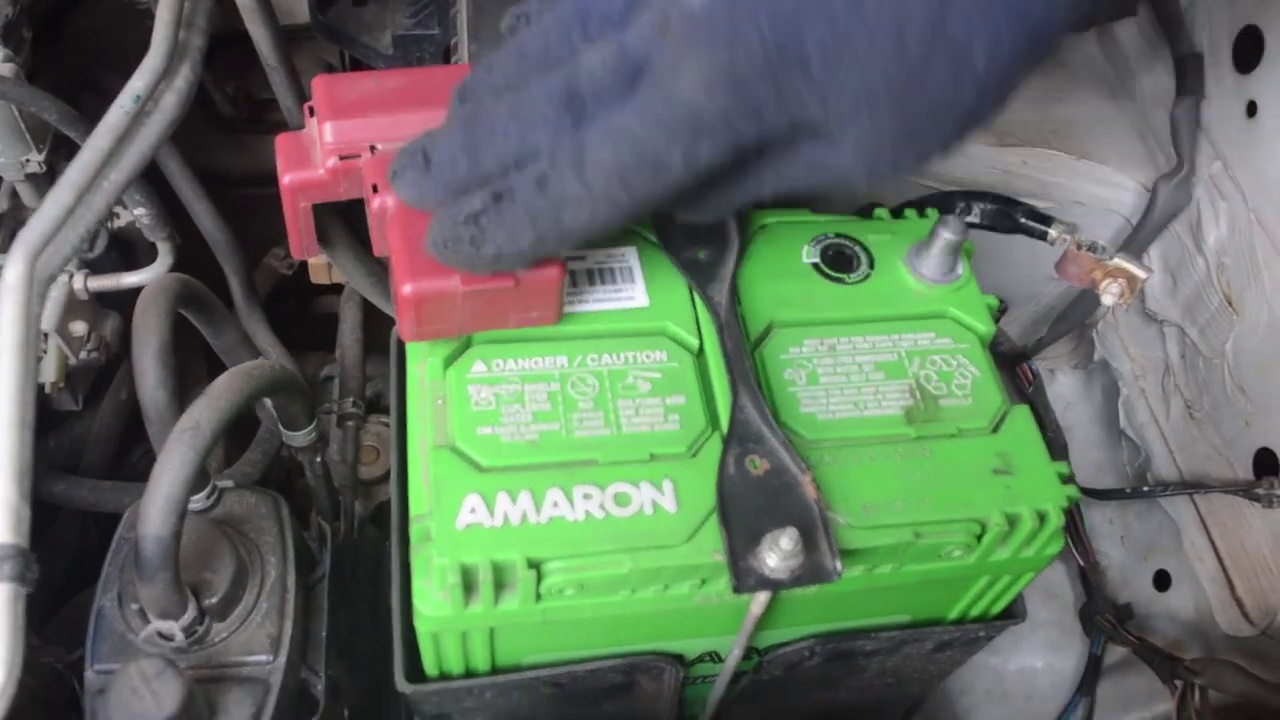battery: (381, 182, 1078, 562)
neg_disconnected: (888, 192, 1016, 315)
pos_connected: (295, 101, 594, 340)
pos_touched: (303, 85, 587, 352)
